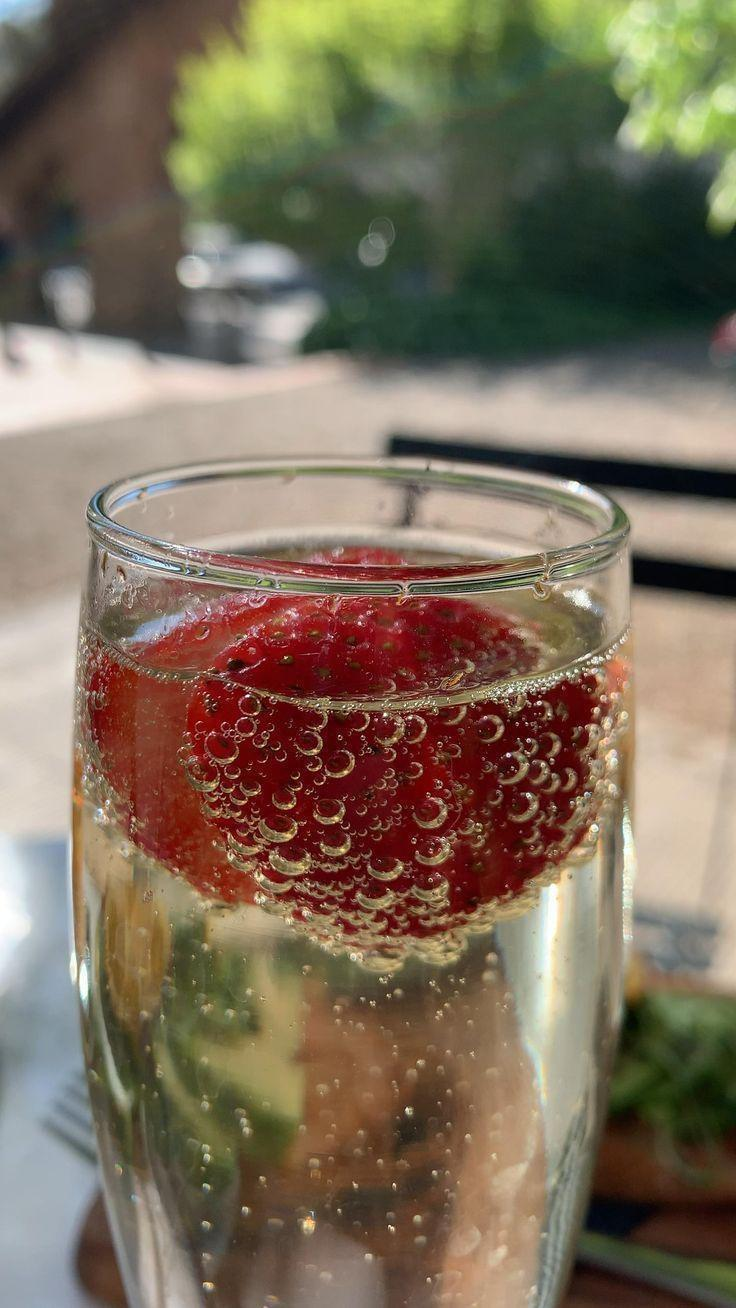glass-normal: (65, 449, 641, 1307)
